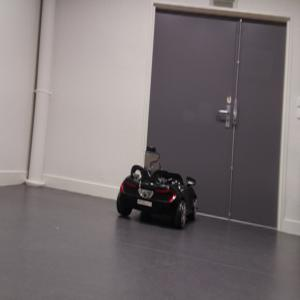big: (114, 164, 199, 230)
